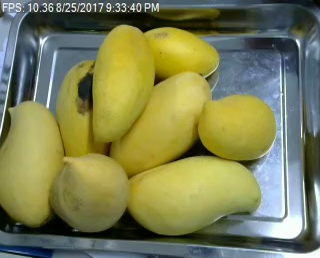Mango: (109, 72, 212, 178), (127, 155, 260, 236), (0, 101, 65, 227), (92, 24, 154, 142), (50, 152, 127, 230), (56, 59, 111, 161), (198, 95, 279, 160), (142, 26, 219, 78)
